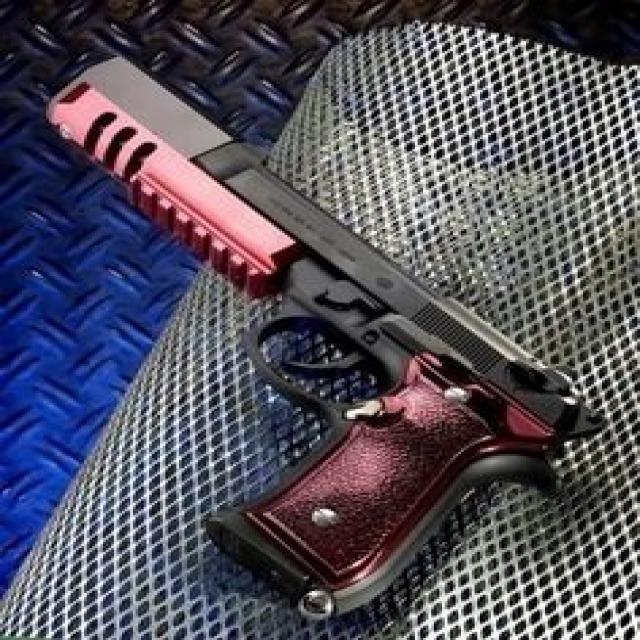semi automatic: (29, 32, 617, 624)
